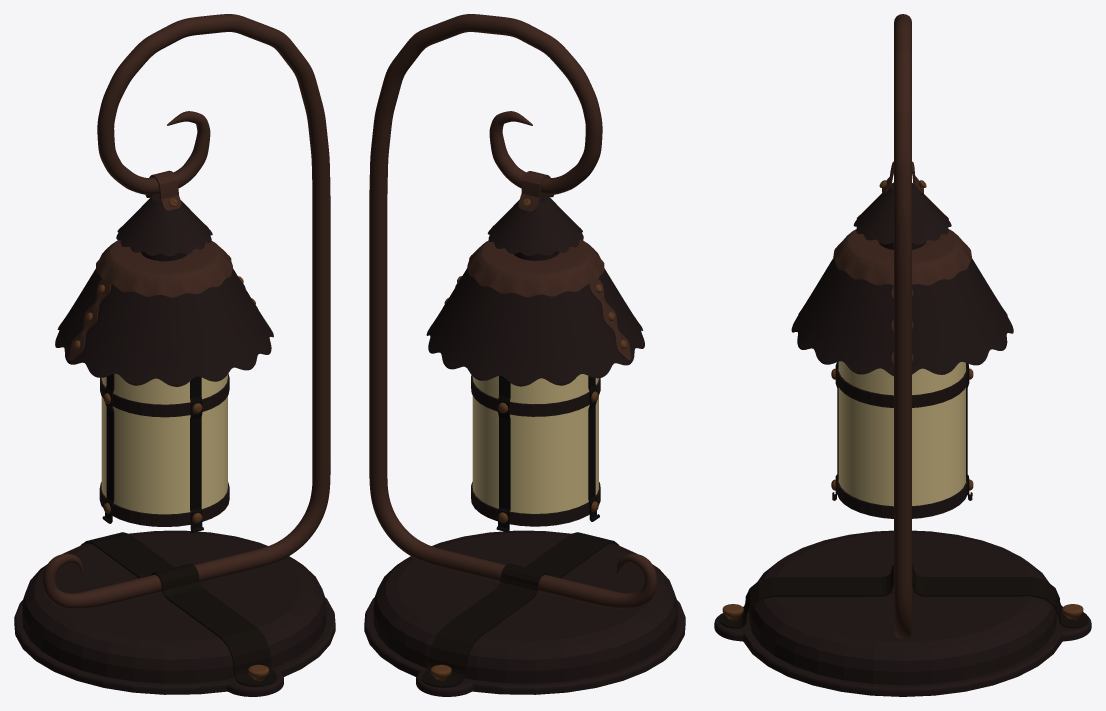
Rendered from lamp.obj.
3 views of the same model, side by side, from view 1: azimuth 30°, elevation 25°; view 2: azimuth 150°, elevation 25°; view 3: azimuth 270°, elevation 25° (orthographic).
Parts seen in each view (by area): view 1: Cylinder, Plane, Circle.003, glass, Plane.002, Plane.001, Cylinder.019, Cylinder.006, Cylinder.007, Plane.003; view 2: Cylinder, Plane, Circle.003, glass, Plane.002, Plane.001, Cylinder.019, Cylinder.006, Cylinder.007, Plane.003; view 3: Cylinder, Circle.003, glass, Plane, Plane.002, Plane.001, Cylinder.007, Cylinder.006, Cylinder.019.
Part boxes in pixels (x1,y1,x2,y2): Cylinder: (14, 530, 335, 696); Plane: (42, 14, 330, 608); Circle.003: (55, 193, 273, 386); glass: (101, 373, 227, 514); Plane.002: (82, 532, 276, 686); Plane.001: (69, 240, 257, 360); Cylinder.019: (102, 374, 203, 532); Cylinder.006: (99, 482, 229, 526); Cylinder.007: (100, 373, 229, 417); Plane.003: (145, 170, 181, 211); Cylinder: (364, 530, 685, 696); Plane: (369, 14, 657, 608); Circle.003: (426, 194, 644, 386); glass: (472, 374, 598, 513); Plane.002: (421, 532, 618, 687); Plane.001: (444, 240, 631, 360); Cylinder.019: (496, 375, 599, 532); Cylinder.006: (471, 482, 600, 526); Cylinder.007: (471, 375, 600, 416); Plane.003: (518, 171, 553, 211); Cylinder: (714, 530, 1091, 696); Circle.003: (791, 182, 1013, 376); glass: (838, 361, 965, 506); Plane: (894, 14, 911, 638); Plane.002: (719, 564, 1088, 628); Plane.001: (833, 229, 971, 363); Cylinder.007: (837, 365, 967, 407); Cylinder.006: (837, 478, 967, 518); Cylinder.019: (832, 362, 972, 500).
Size of the model in its own units: 1.48 by 2.91 by 1.63.
